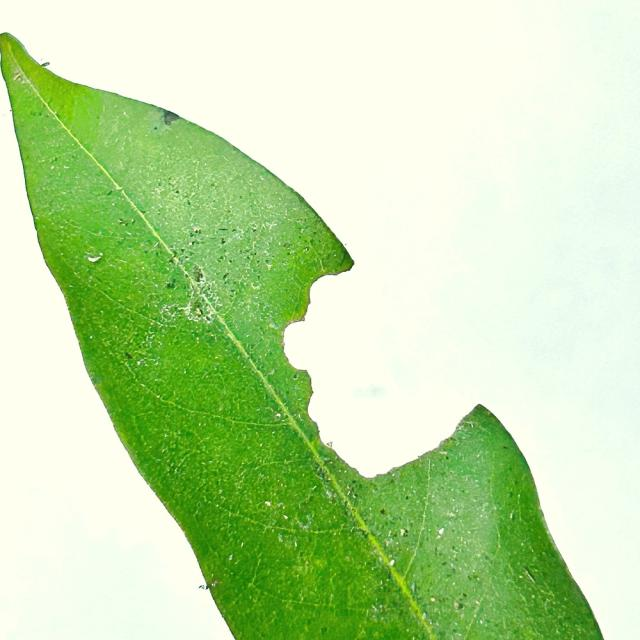Deficiency Leaf: (284, 253, 478, 477)
Lychee: (0, 33, 602, 639)
